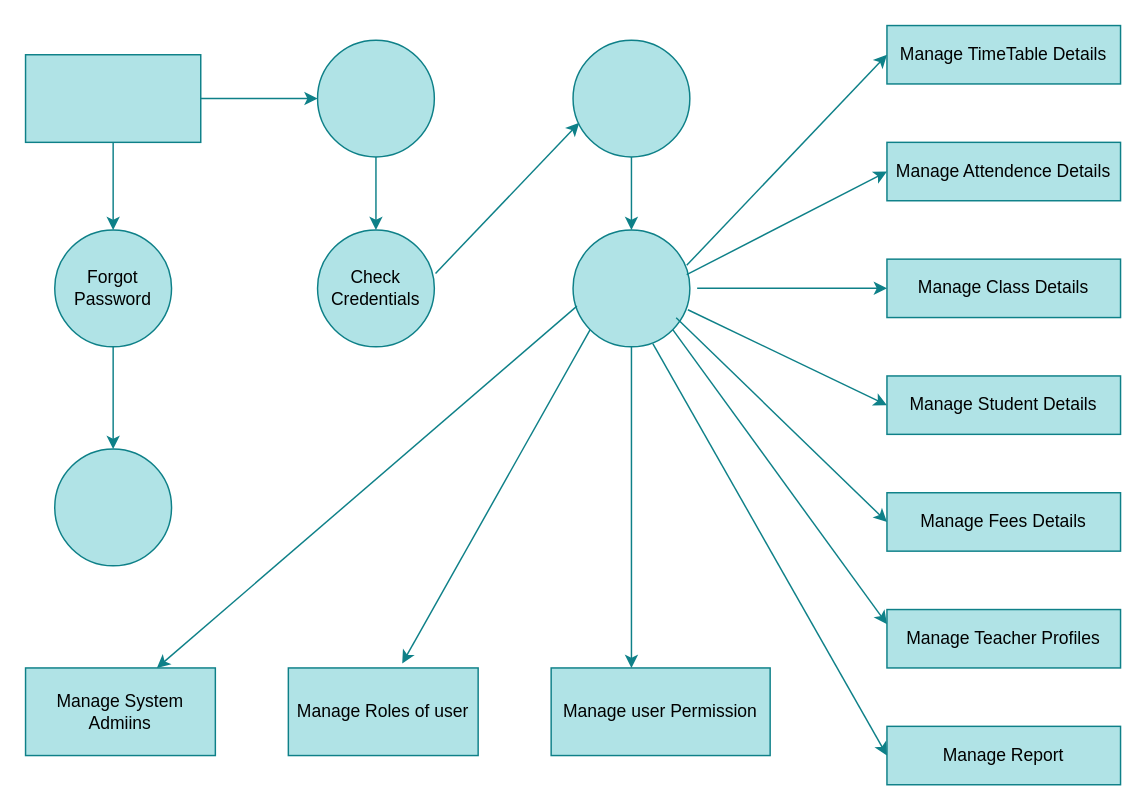
This 1146x810 diagram has some shape labels left out. The shapes that lost their labels are listed below. From the top down, each one's box as (x1, y1, x2, y2) in pixels, then its label:
(24, 53, 201, 142): Admin
(316, 39, 434, 157): Log in to system
(572, 39, 690, 157): Check Roles of Access
(572, 228, 690, 347): Manage Modules
(53, 447, 172, 566): Send Email to user
